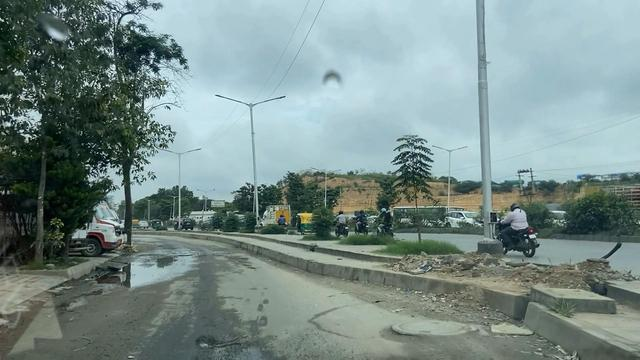RoadDamages: (372, 309, 479, 347), (192, 331, 281, 360)
